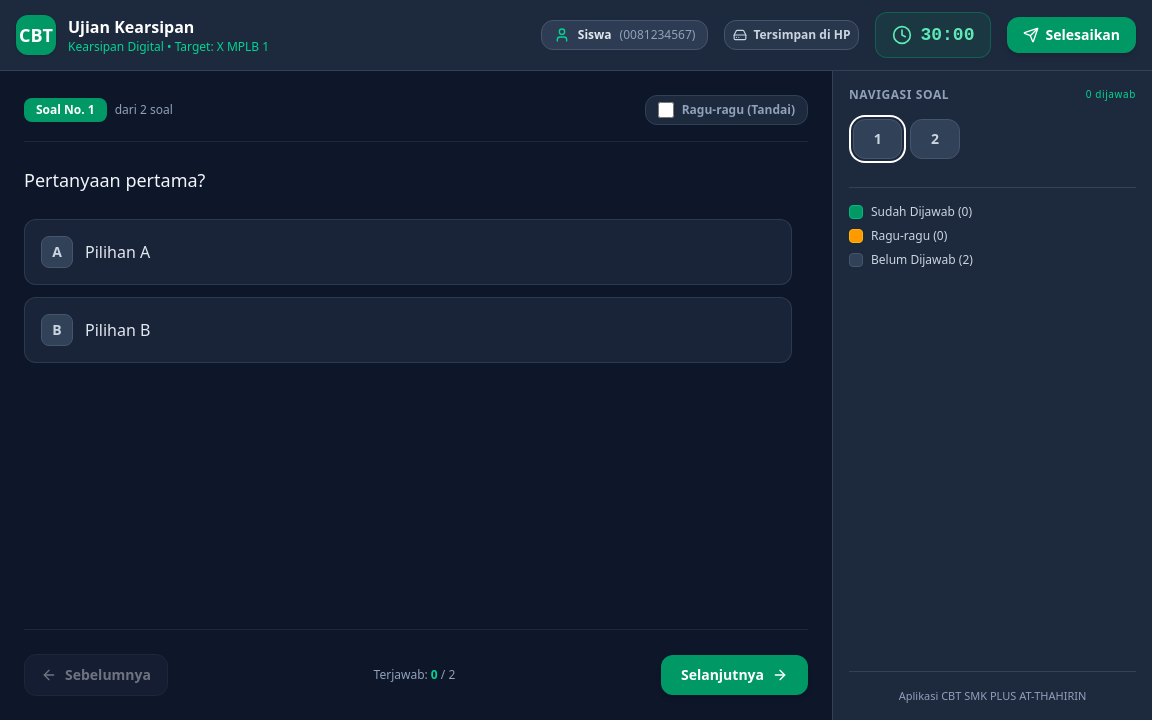
Test: CbtTestRunner › menandai soal yang sudah dijawab
Expected: the text "0 dijawab" is shown, [1086,88,1136,102]
Click the button "A Pilihan A".
click(57, 252)  # box [24,219,792,285]
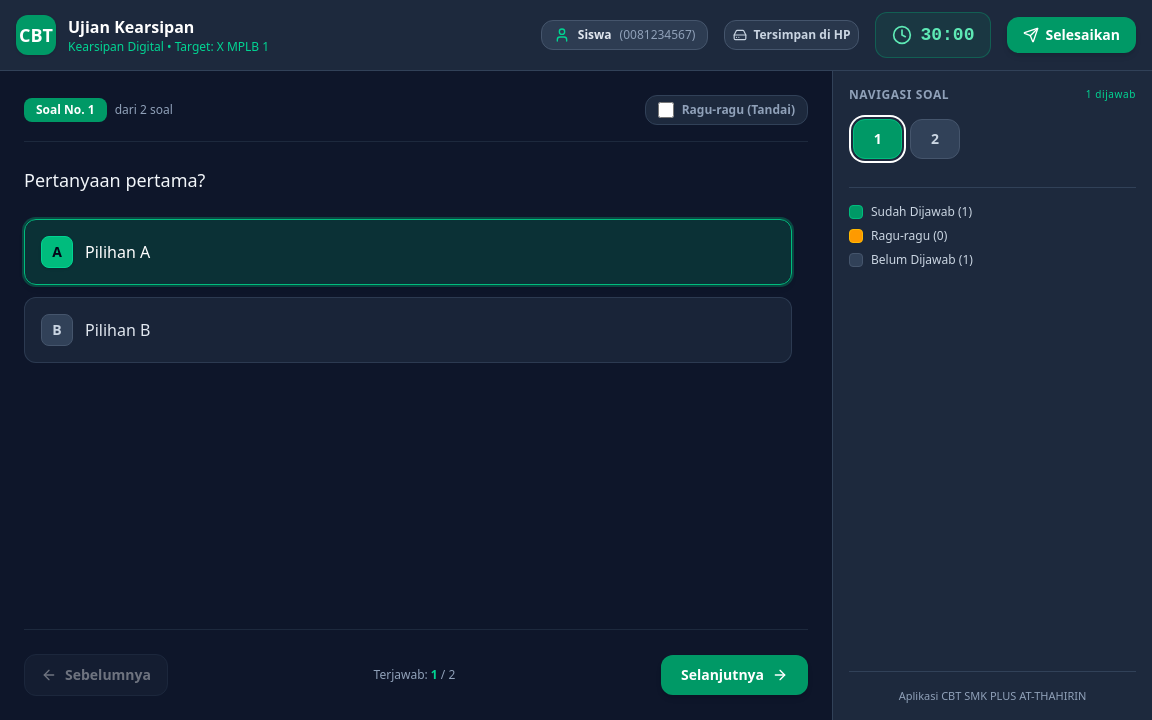
Now the text "1 dijawab" is shown, box [1086,88,1136,102]
